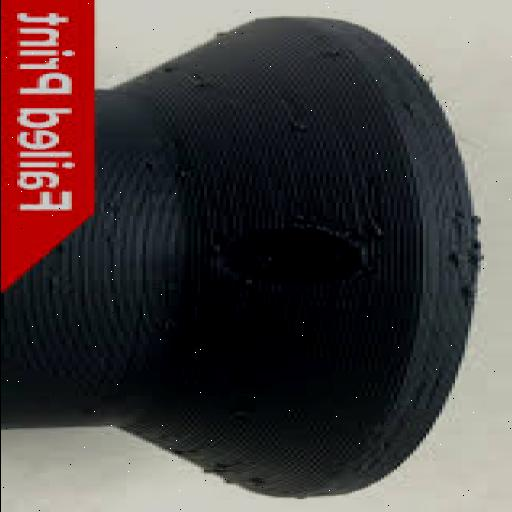blobs: (439, 206, 483, 306), (202, 447, 274, 491), (180, 50, 233, 86), (342, 206, 394, 242), (155, 152, 207, 180), (270, 108, 308, 140), (170, 340, 218, 364), (312, 44, 364, 65), (224, 398, 262, 426), (400, 100, 424, 124)
